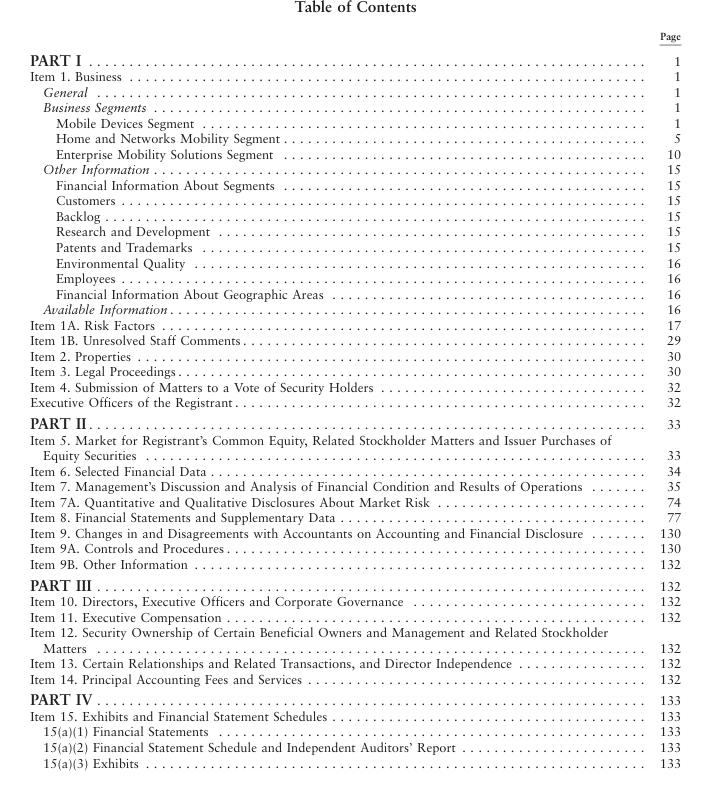table: (29, 29, 680, 769)
table column: (29, 29, 634, 769), (634, 29, 680, 769)
table column header: (29, 29, 680, 45)
table row: (29, 431, 680, 462), (29, 623, 680, 654), (29, 45, 680, 68), (29, 410, 680, 431), (29, 572, 680, 592), (29, 687, 680, 707), (29, 393, 680, 410), (29, 555, 680, 572), (29, 670, 680, 687), (29, 29, 680, 45), (29, 83, 680, 99), (29, 114, 680, 130), (29, 145, 680, 161), (29, 176, 680, 192), (29, 207, 680, 223), (29, 238, 680, 254), (29, 269, 680, 285), (29, 300, 680, 316), (29, 331, 680, 347), (29, 362, 680, 378), (29, 477, 680, 493), (29, 508, 680, 524), (29, 539, 680, 555), (29, 592, 680, 608), (29, 654, 680, 670), (29, 707, 680, 723), (29, 738, 680, 754), (29, 68, 680, 83), (29, 99, 680, 114), (29, 130, 680, 145), (29, 161, 680, 176), (29, 192, 680, 207), (29, 223, 680, 238), (29, 254, 680, 269), (29, 285, 680, 300), (29, 316, 680, 331), (29, 347, 680, 362), (29, 378, 680, 393), (29, 462, 680, 477), (29, 493, 680, 508), (29, 524, 680, 539), (29, 608, 680, 623), (29, 723, 680, 738), (29, 754, 680, 769)
